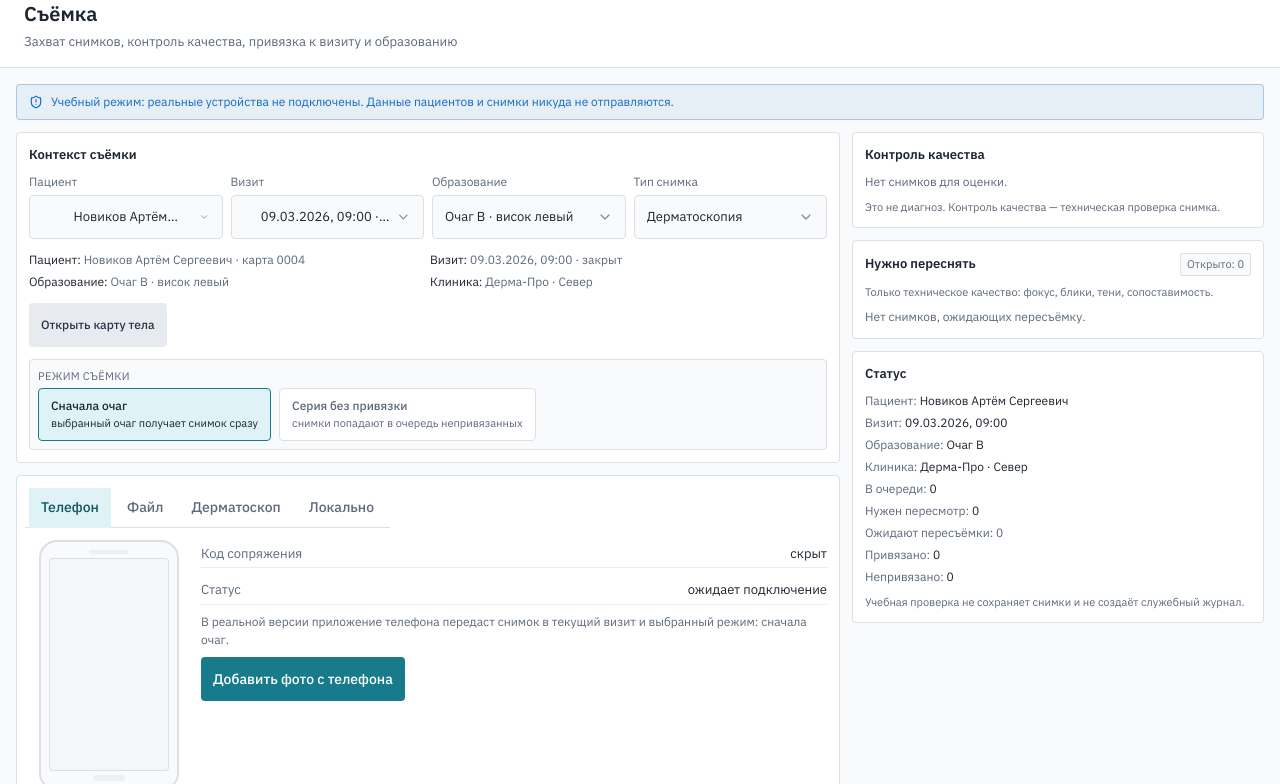
Test: CapturePage · Batch B capture workflow › routes technically weak photos into Needs Better Photo Queue and records retake requests
Click the button "Добавить фото с телефона" at (303, 678), box [201,656,405,700]
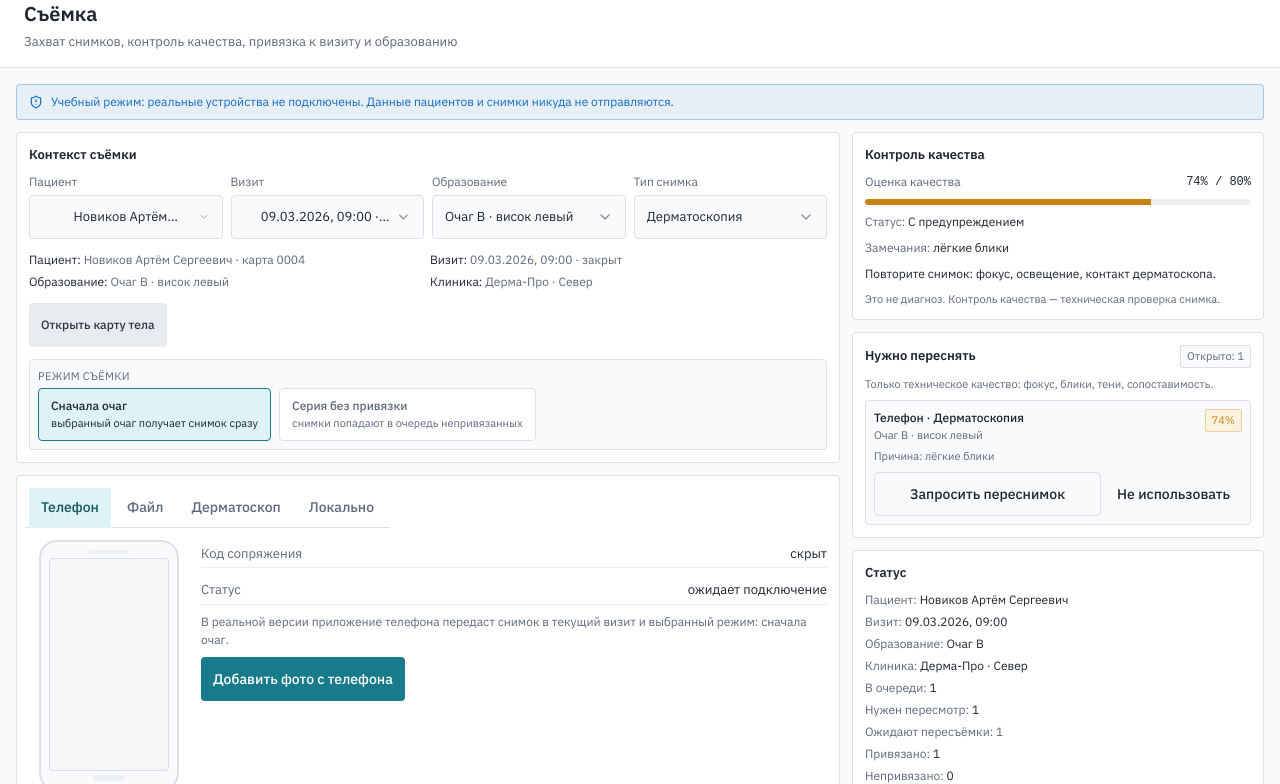
Expected: the text "Только техническое качество" is shown, [865,376,1213,390]
Expected: the text "Причина: лёгкие блики" is shown, [874,448,995,462]
Expected: the list item "Ожидают пересъёмки: 1" is shown, [865,724,1003,738]
Click the button "Запросить переснимок" at (988, 494), box [874,472,1101,516]
(page scrolled)
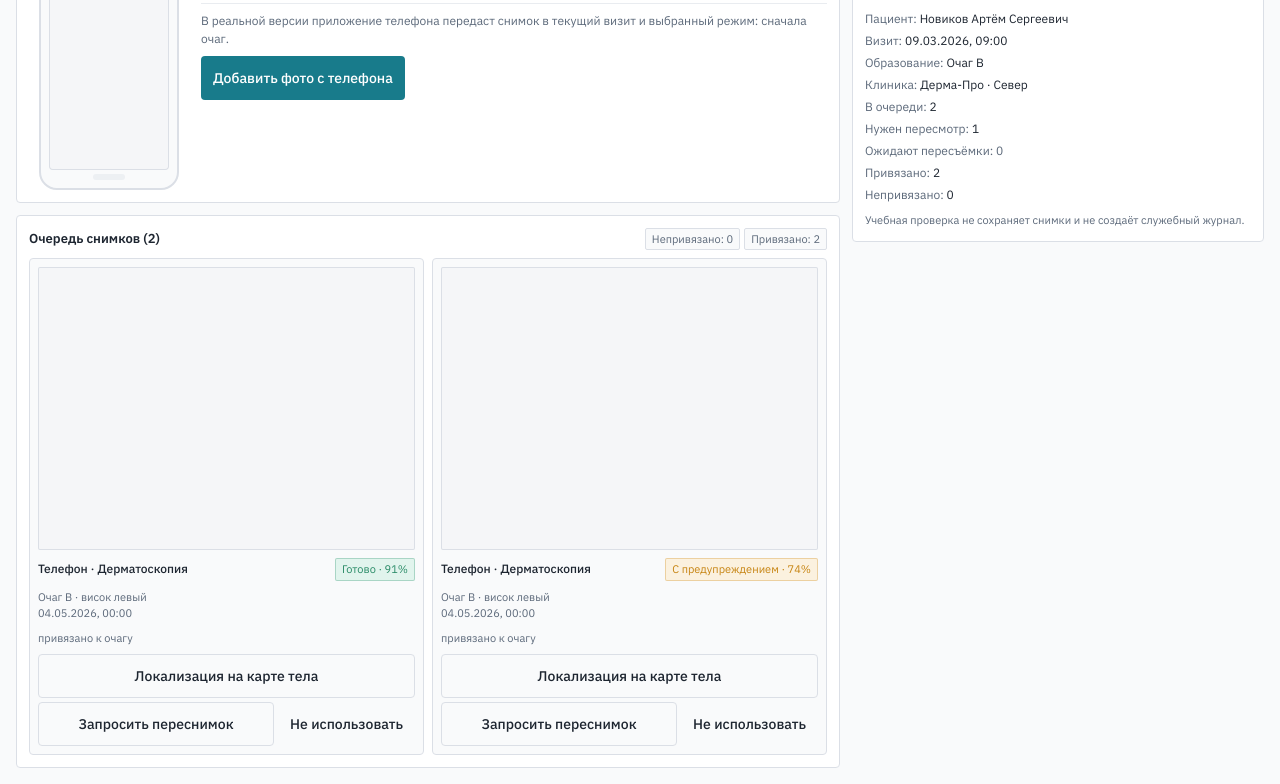
Expected: the list item "Ожидают пересъёмки: 0" is shown, [865,143,1003,158]
Expected: the text "Готово · 91%" is shown, [335,558,415,581]
